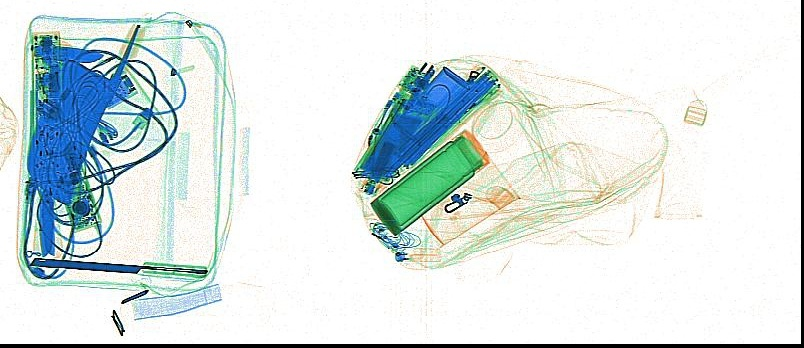knife: (26, 22, 147, 207), (29, 257, 208, 279), (33, 189, 64, 257), (32, 41, 104, 63)
lighter: (393, 248, 441, 263)
zippooil: (391, 66, 473, 145)
